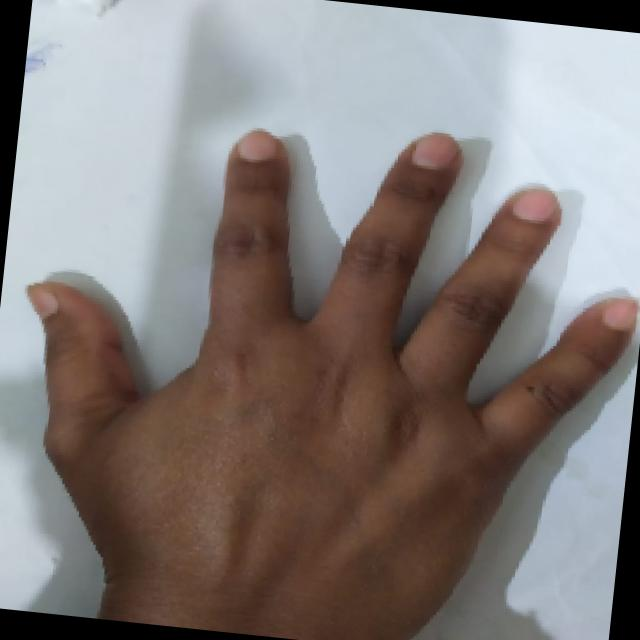Nail: (410, 132, 459, 170), (511, 187, 558, 223), (236, 129, 279, 161), (28, 282, 59, 318), (603, 298, 636, 330)
